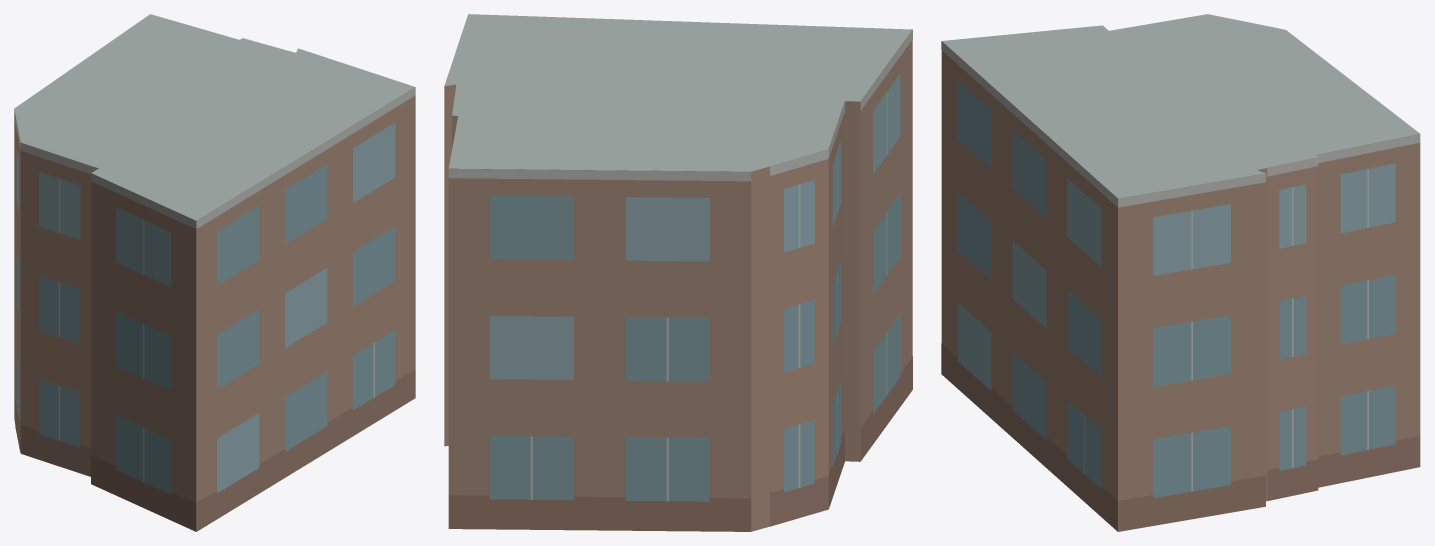
File: survey-upis-32656004.glb
The picture shows the model from 3 angles, left to right: view 1: azimuth 30°, elevation 25°; view 2: azimuth 150°, elevation 25°; view 3: azimuth 270°, elevation 25°; orthographic projection. The views are drawn at different scales.
Visible parts, largest first — view 1: survey-upis-32656004.tmp; view 2: survey-upis-32656004.tmp; view 3: survey-upis-32656004.tmp.
Boxes of the visible parts, x1,y1,x2,y2 form: survey-upis-32656004.tmp: [14, 14, 415, 531]; survey-upis-32656004.tmp: [444, 14, 912, 531]; survey-upis-32656004.tmp: [941, 14, 1420, 531].
Bounding box in the file's own units: 10.82 × 9.1 × 11.86.
